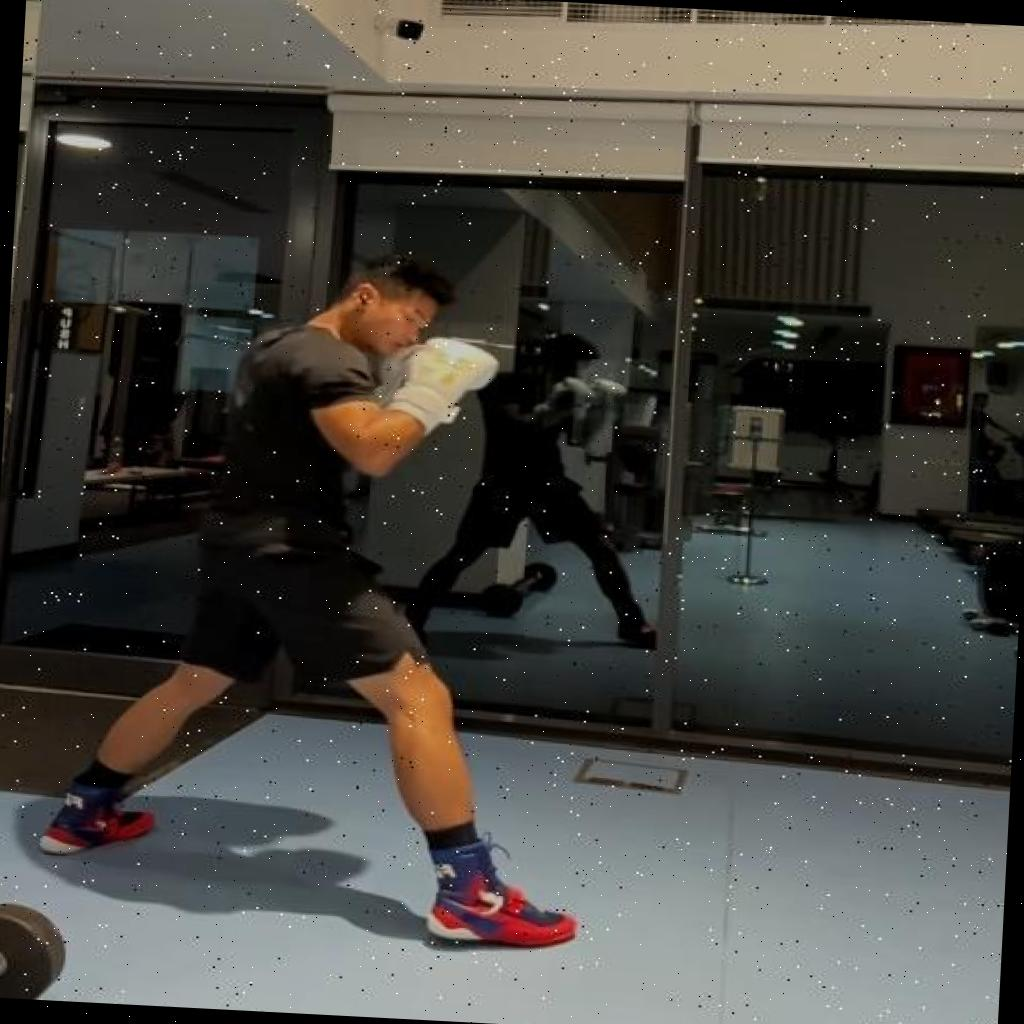no punch: (32, 236, 619, 955)
